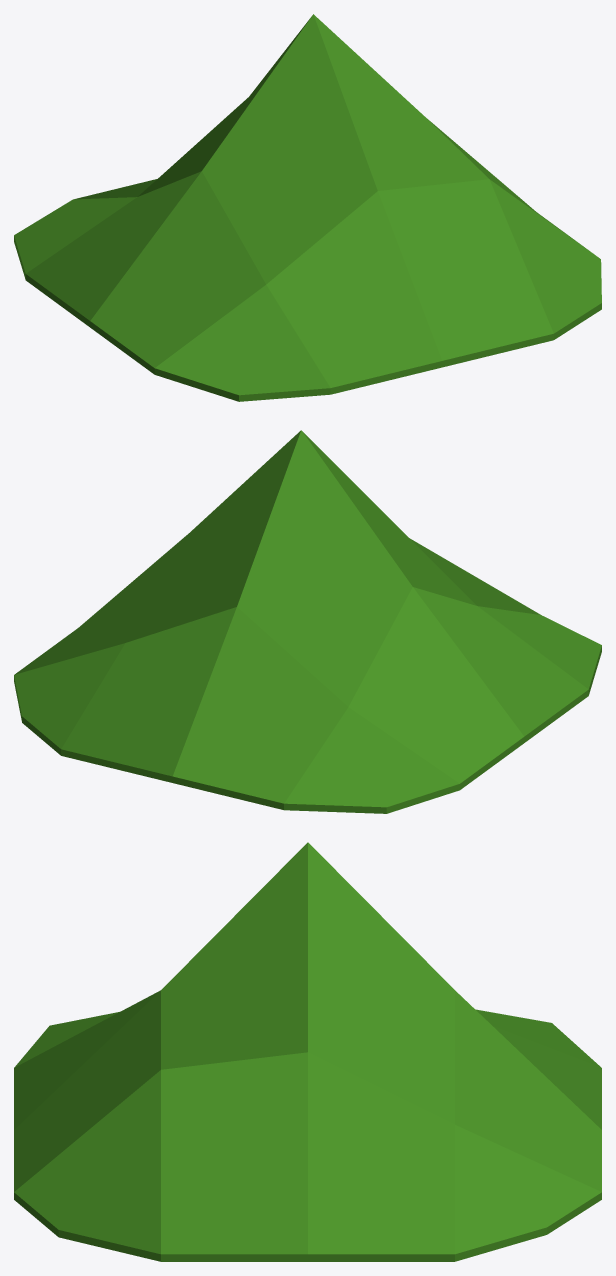
File: single_moutain_grass.fbx
3 renders of one model, top to bottom at view 1: azimuth 30°, elevation 25°; view 2: azimuth 150°, elevation 25°; view 3: azimuth 270°, elevation 25°, orthographic. The views are drawn at different scales.
Parts seen in each view (by area): view 1: Plane; view 2: Plane; view 3: Plane.
Part boxes in pixels (box(x1,y1,x2,y2)): Plane: box(14, 14, 601, 401); Plane: box(14, 430, 601, 813); Plane: box(14, 842, 601, 1261).
Bounding box in the file's own units: 800 × 444 × 800.
